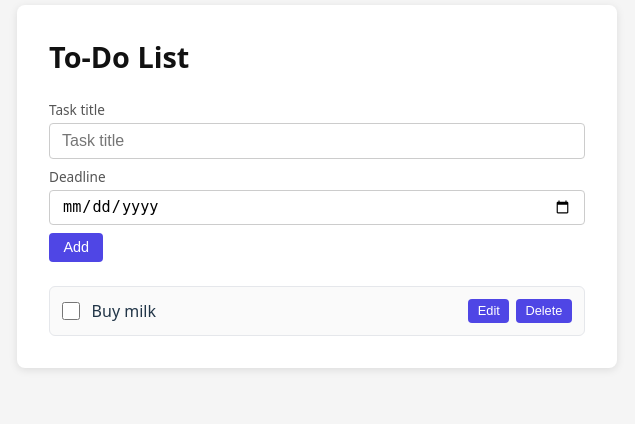
Test: Delete task › removes a task from the list after deletion
expect the text "Buy milk" is shown: met, box left=92, top=300, right=156, bottom=322
Step 1. Click the button "Delete" → x=544, y=311, box left=516, top=299, right=572, bottom=323
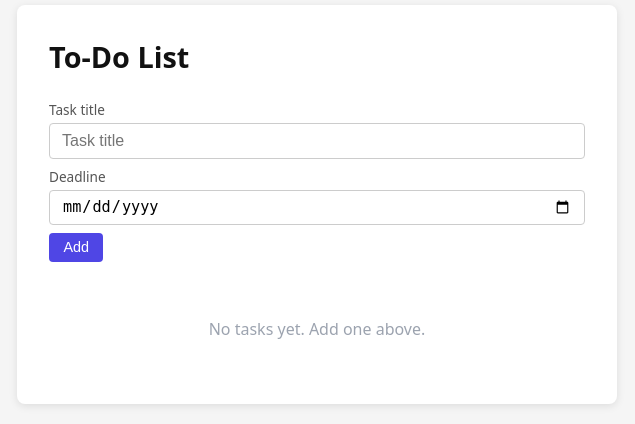
expect the text "Buy milk" is gone: met
